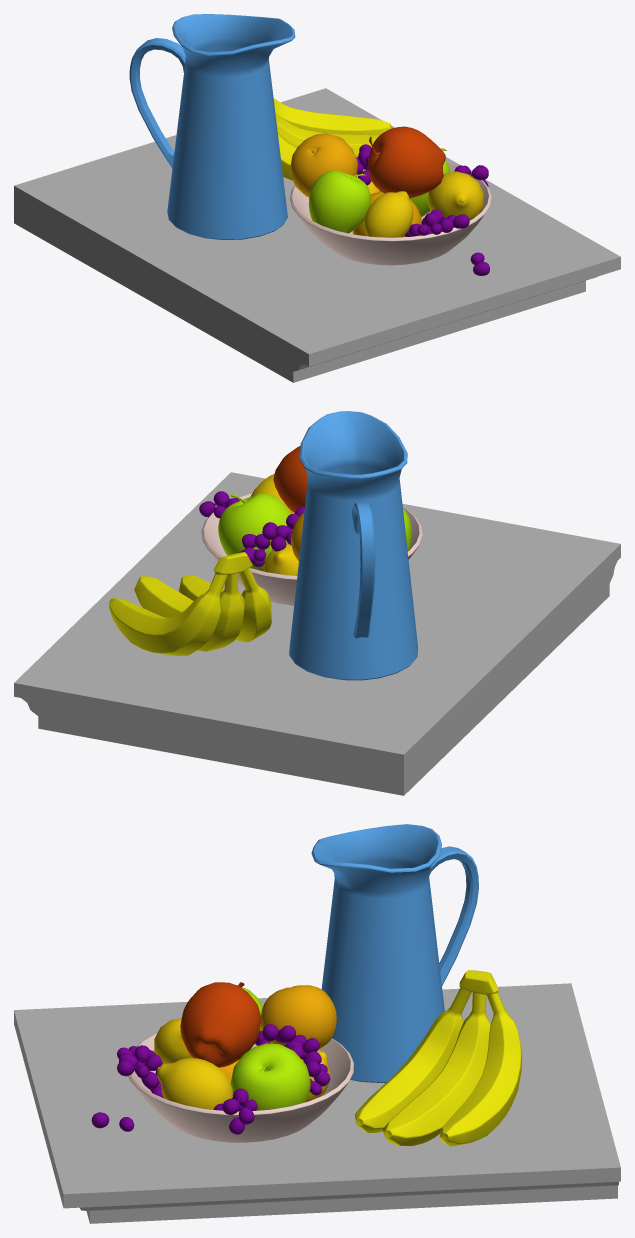
File: fruit bowl.fbx
The picture shows the model from 3 angles, top to bottom: view 1: azimuth 30°, elevation 25°; view 2: azimuth 150°, elevation 25°; view 3: azimuth 270°, elevation 25°; orthographic projection. The views are drawn at different scales.
Visible parts, largest first — view 1: tabletop1, pitcher1, bowl, apple1, banana_bunch, apple2, orange, lemon1, lemon3; view 2: tabletop1, pitcher1, banana_bunch, apple, bowl, apple1, lemon2; view 3: tabletop1, pitcher1, banana_bunch, bowl, apple1, apple, orange, lemon1, lemon3.
Part boxes in pixels (x1,y1,x2,y2): tabletop1: [14, 88, 620, 382]; pitcher1: [129, 14, 295, 239]; bowl: [289, 162, 491, 265]; apple1: [368, 126, 445, 198]; banana_bunch: [273, 98, 391, 180]; apple2: [308, 170, 370, 233]; orange: [290, 133, 357, 197]; lemon1: [428, 171, 483, 220]; lemon3: [364, 191, 413, 237]; tabletop1: [14, 472, 620, 795]; pitcher1: [289, 411, 417, 680]; banana_bunch: [109, 552, 271, 655]; apple: [218, 493, 292, 571]; bowl: [201, 493, 422, 605]; apple1: [273, 446, 307, 512]; lemon2: [263, 543, 298, 575]; tabletop1: [14, 983, 620, 1223]; pitcher1: [311, 824, 478, 1082]; banana_bunch: [354, 970, 522, 1146]; bowl: [128, 1033, 353, 1142]; apple1: [180, 982, 261, 1067]; apple: [230, 1043, 310, 1110]; orange: [261, 985, 336, 1049]; lemon1: [157, 1058, 232, 1109]; lemon3: [154, 1018, 193, 1064].
Size of the model in its own units: 18.95 by 10.86 by 23.04.
